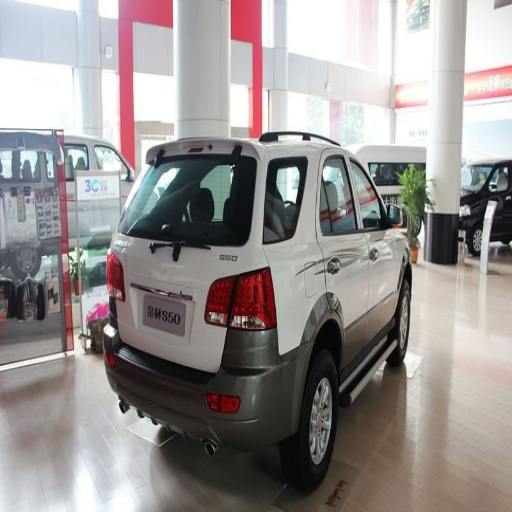back_bumper: (128, 329, 309, 449)
back_glass: (121, 155, 307, 245)
back_right_door: (315, 154, 365, 374)
trunk: (119, 238, 258, 368)
